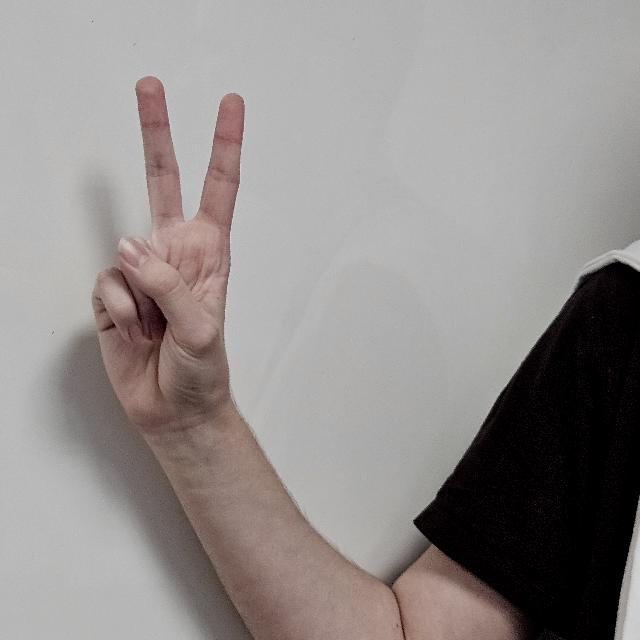Triangulo: (86, 75, 258, 471)
